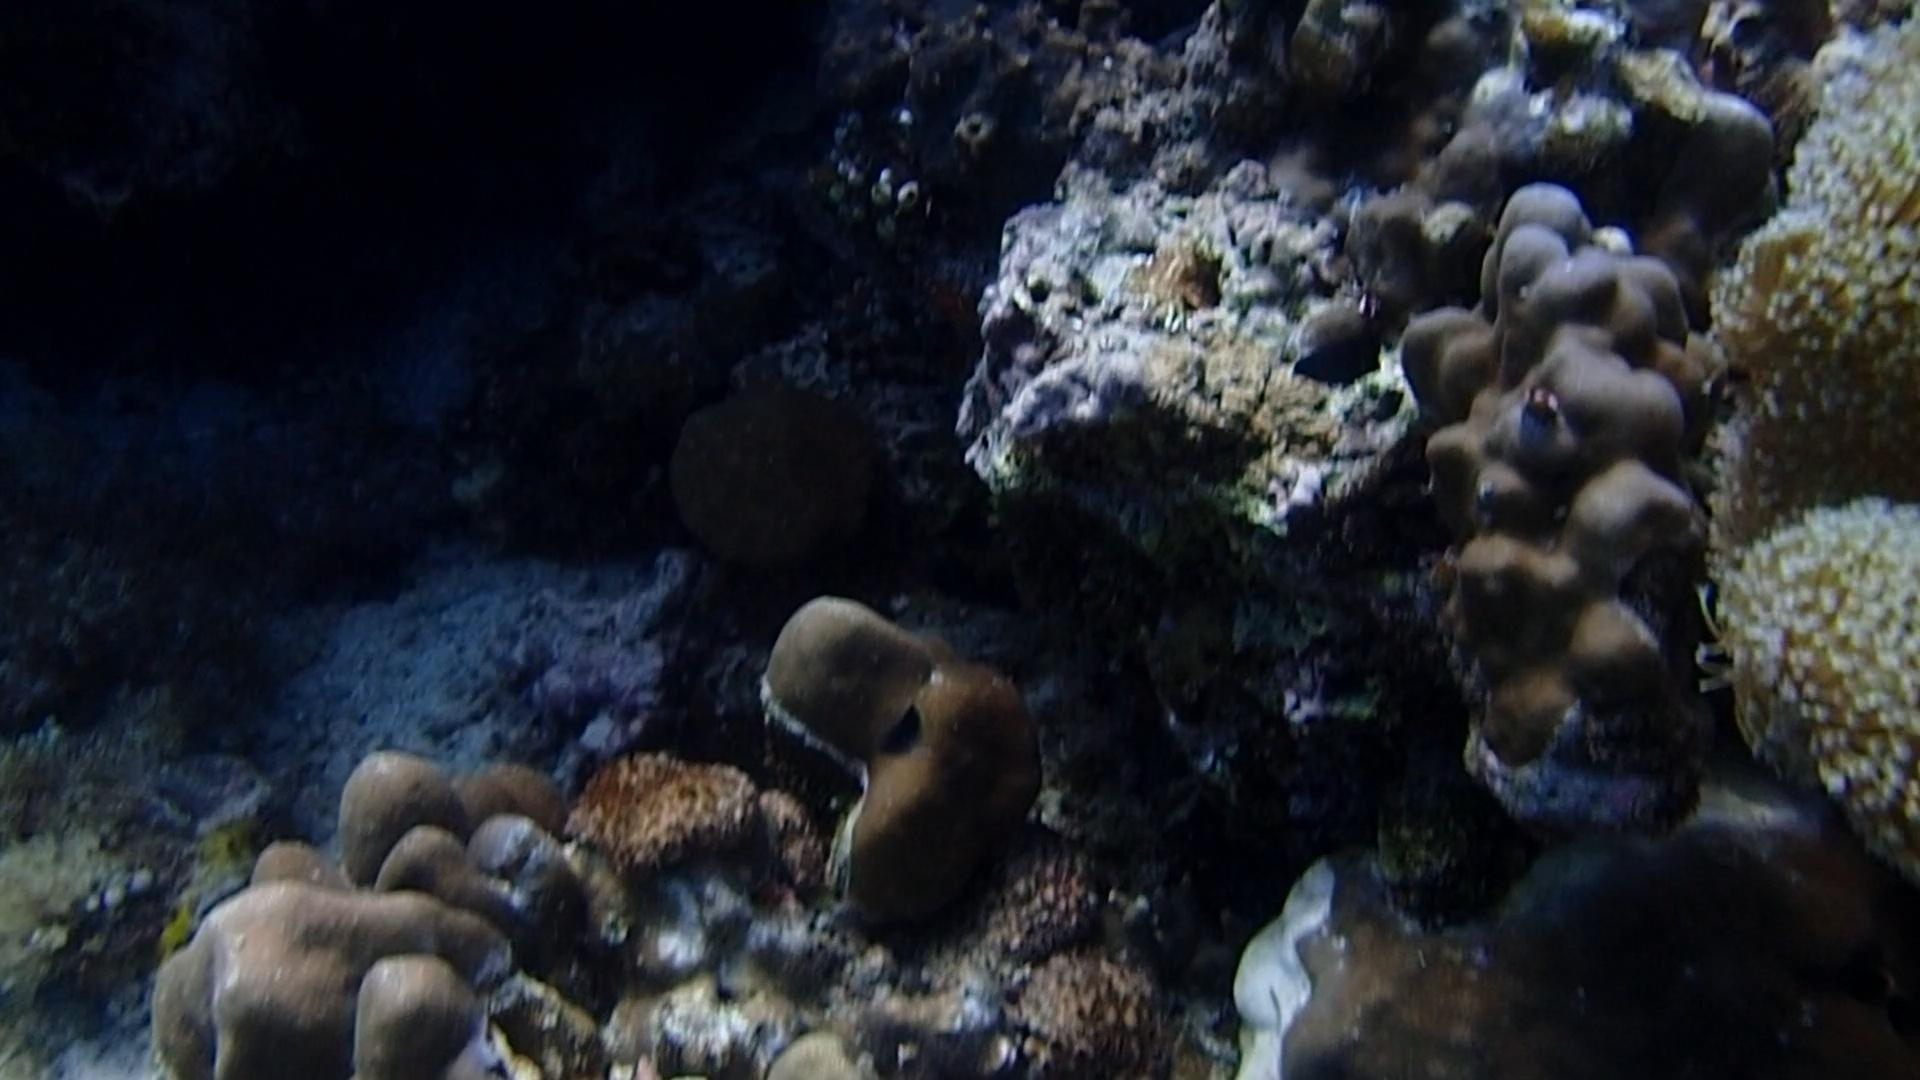Dark Fish: (1283, 320, 1399, 398)
Yellow Tail: (870, 695, 936, 774)
